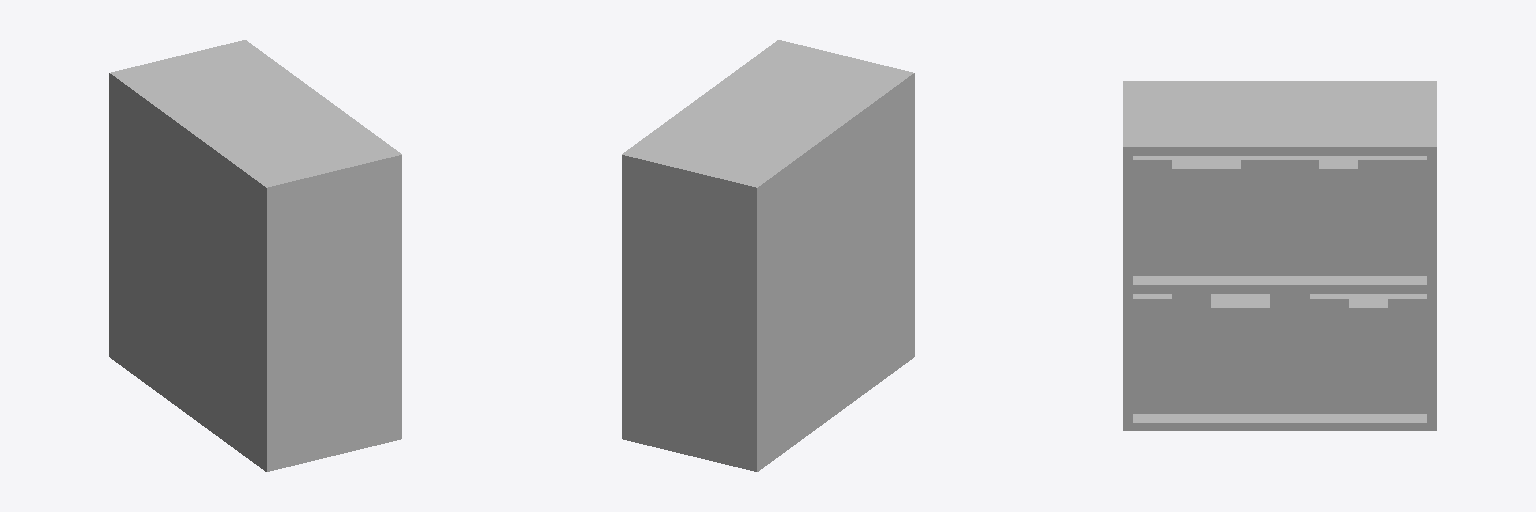
File: bookcase.obj
3 renders of one model, left to right at view 1: azimuth 30°, elevation 25°; view 2: azimuth 150°, elevation 25°; view 3: azimuth 270°, elevation 25°, orthographic.
Visible parts, largest first — view 1: bookcase; view 2: bookcase; view 3: bookcase, book13, book3, book9, book16, book5, book10, book8, book14, book6, book4, book15 (+5 smaller).
Part boxes in pixels (x1,y1,x2,y2): bookcase: (109,40,401,471); bookcase: (622,40,914,471); bookcase: (1123,81,1436,430); book13: (1270,294,1309,413); book3: (1201,156,1240,275); book9: (1133,294,1171,413); book16: (1388,294,1426,413); book5: (1280,156,1318,275); book10: (1172,294,1210,413); book8: (1388,156,1426,275); book14: (1310,294,1348,413); book6: (1319,156,1357,275); book4: (1241,156,1279,275); book15: (1349,294,1387,413).
Size of the model in its own units: 0.5001 by 1 by 1.